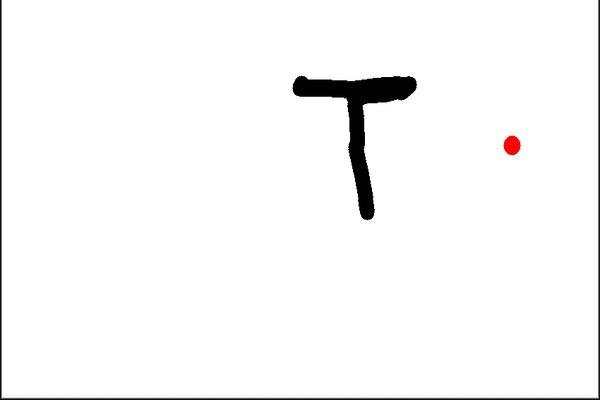T: (285, 66, 420, 225)
